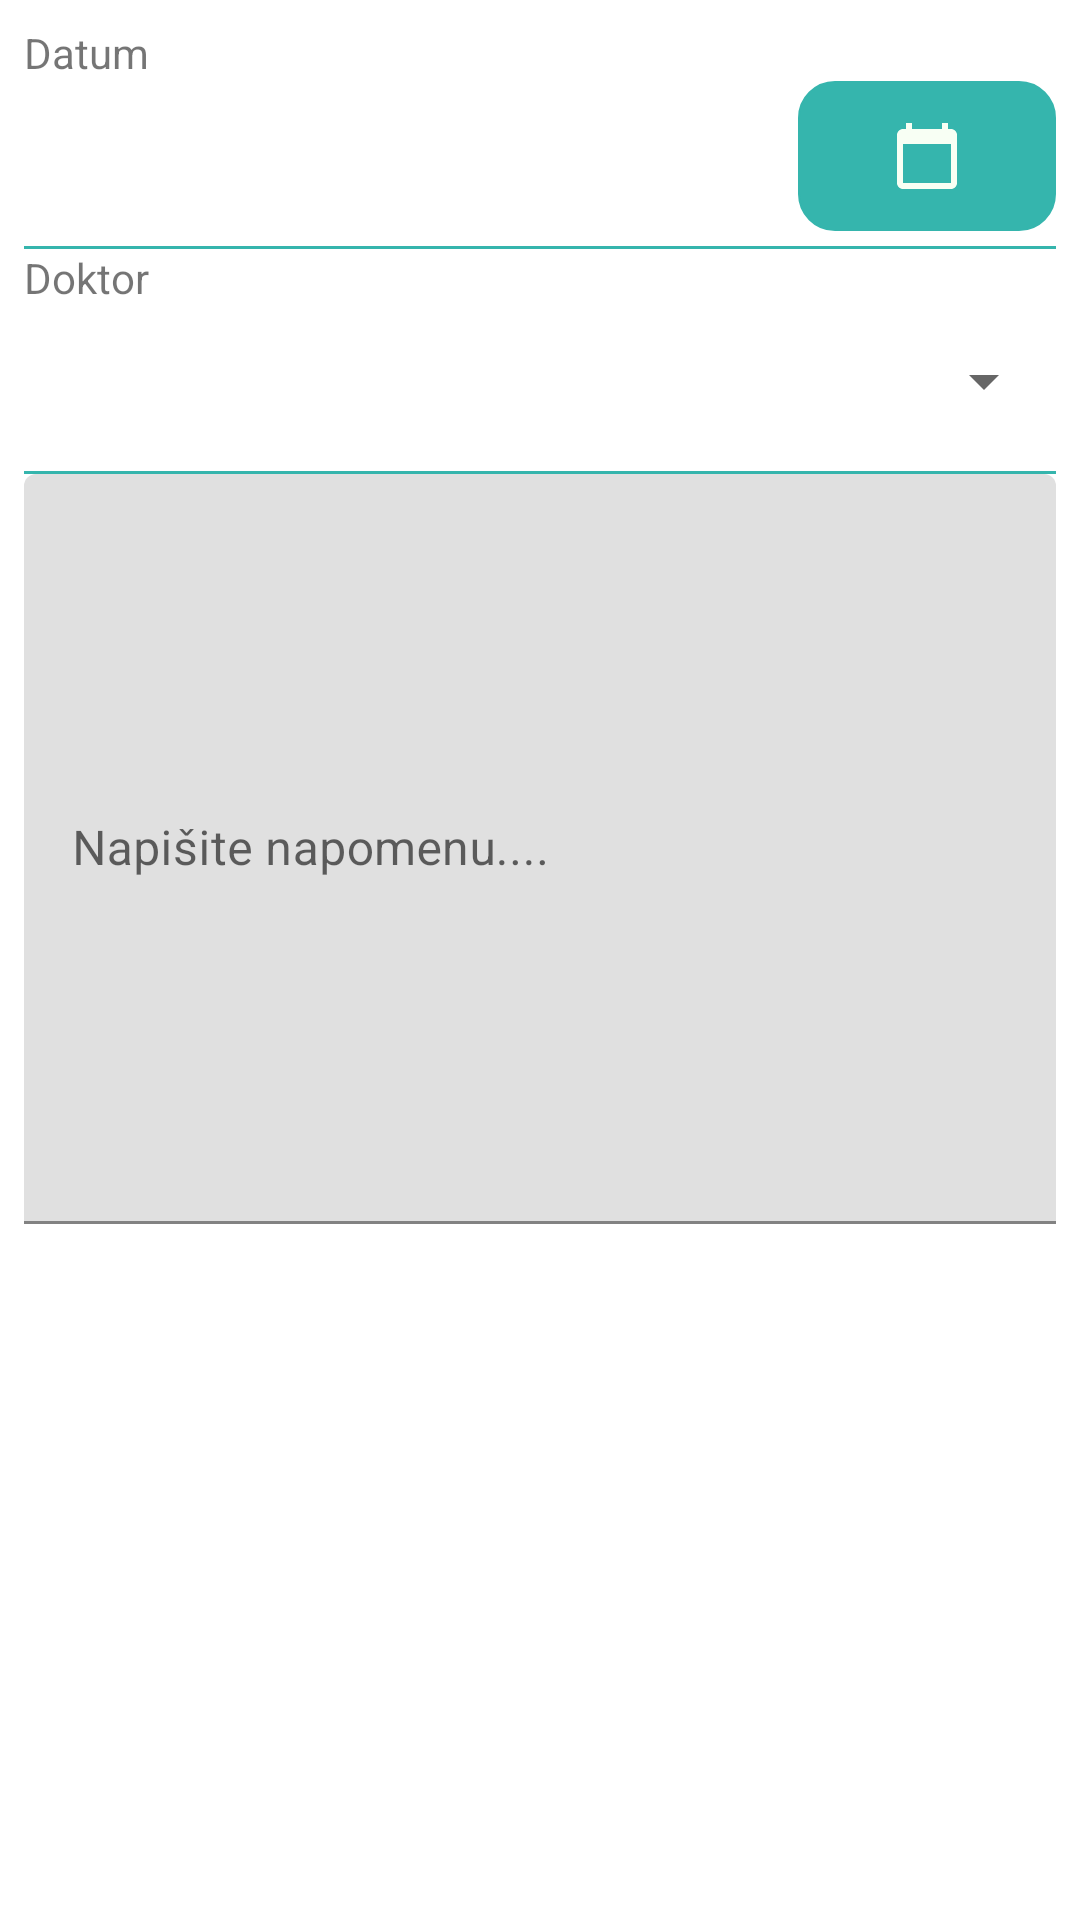

Icon click points for this 1080*1920 phone screenshot, format point (x, y):
calendar today: point (927, 156)
